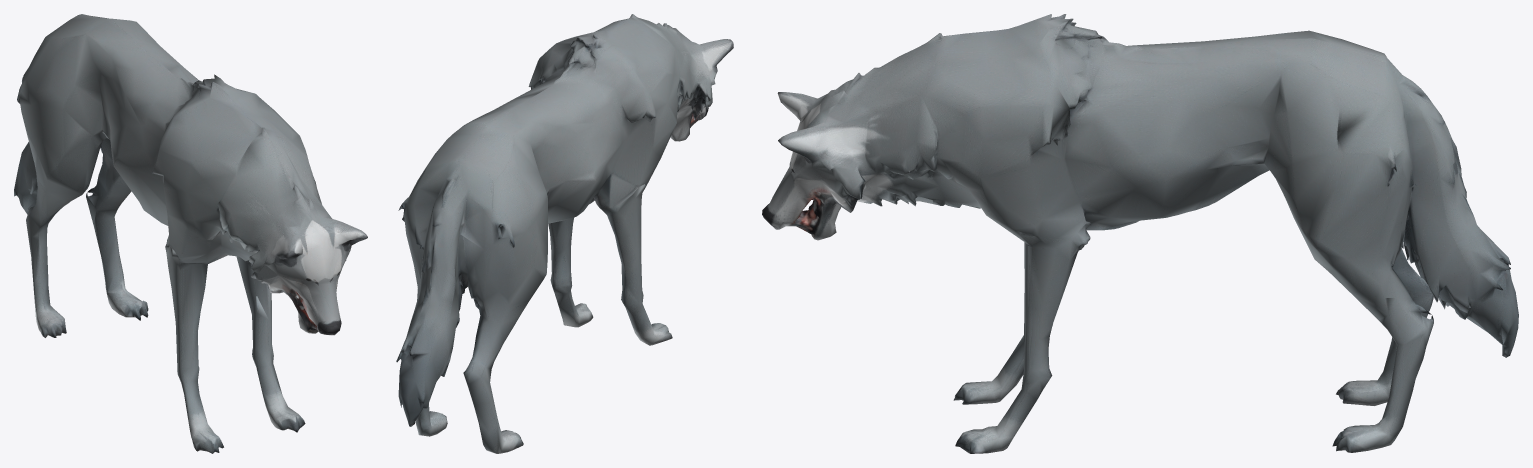
Rendered from wolf.glb.
3 views of the same model, side by side, from view 1: azimuth 30°, elevation 25°; view 2: azimuth 150°, elevation 25°; view 3: azimuth 270°, elevation 25° (orthographic). The views are drawn at different scales.
Size of the model in its own units: 0.4919 by 1.19 by 2.
Materials: 1 (1 with a texture image).
